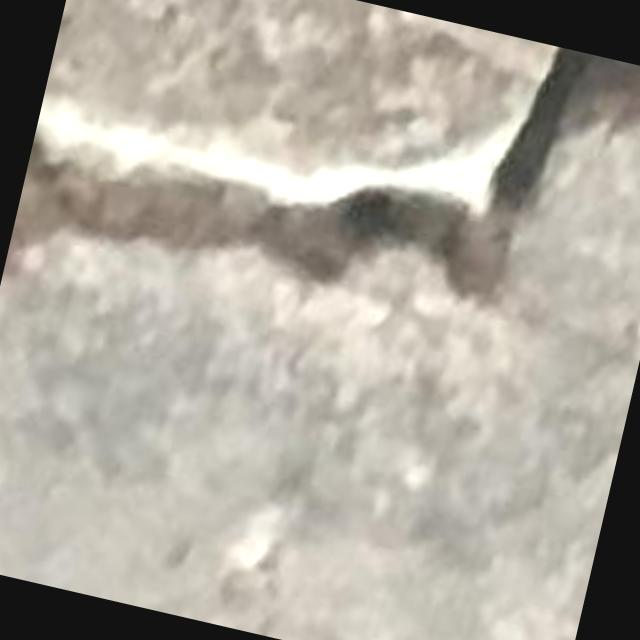crack: (7, 47, 639, 300)
